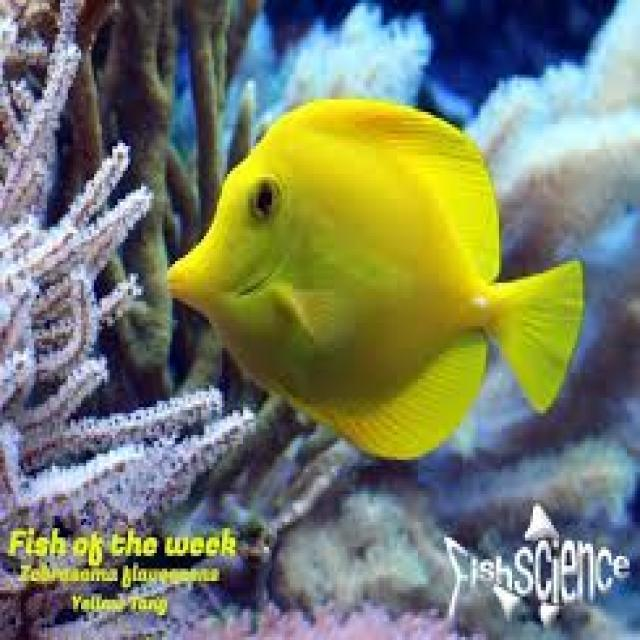TangFish: (160, 98, 586, 462)
